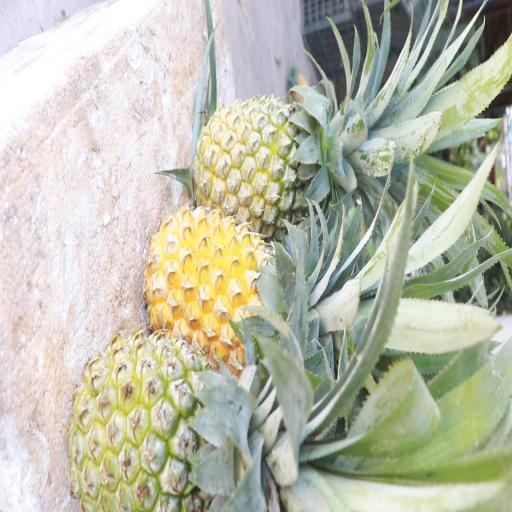------------------------------: (73, 336, 252, 512), (198, 90, 341, 236)
Pineapple - v8 v1: (147, 208, 298, 362)
